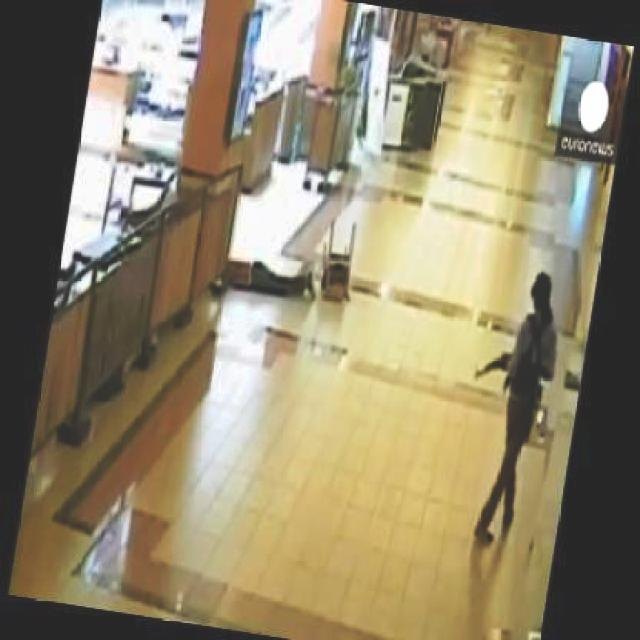Gun: (468, 342, 509, 386)
